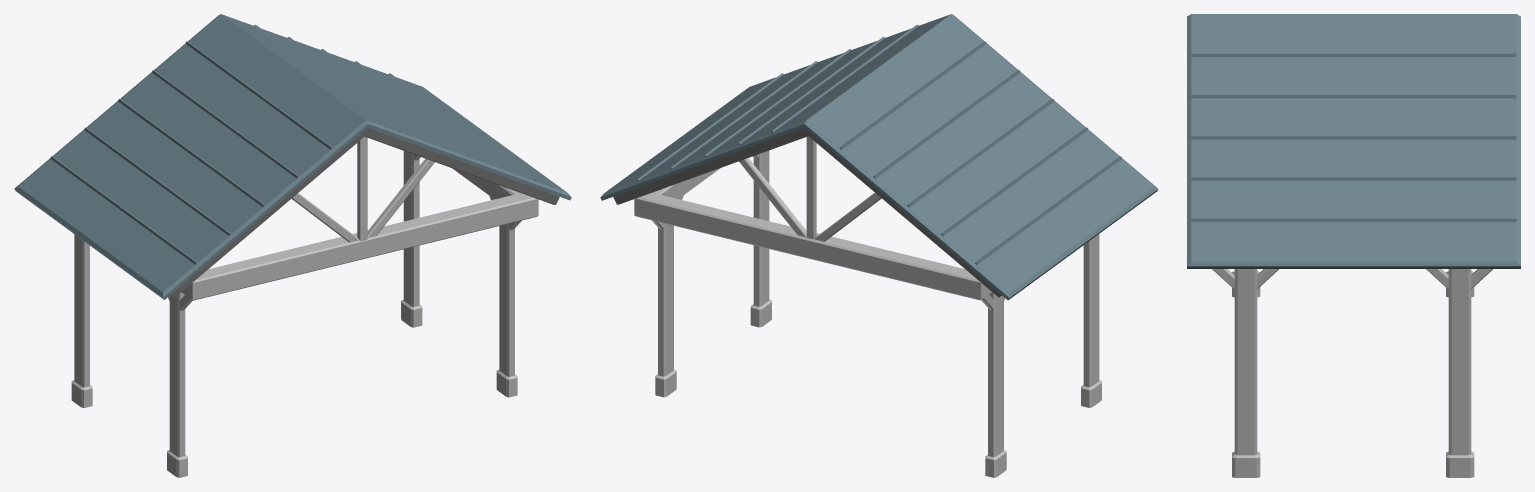
Rendered from fp_silo_l1.glb.
The picture shows the model from 3 angles, left to right: view 1: azimuth 30°, elevation 25°; view 2: azimuth 150°, elevation 25°; view 3: azimuth 270°, elevation 25°; orthographic projection. The views are drawn at different scales.
Bounding box in the file's own units: 0.85 × 0.6557 × 0.5358.
